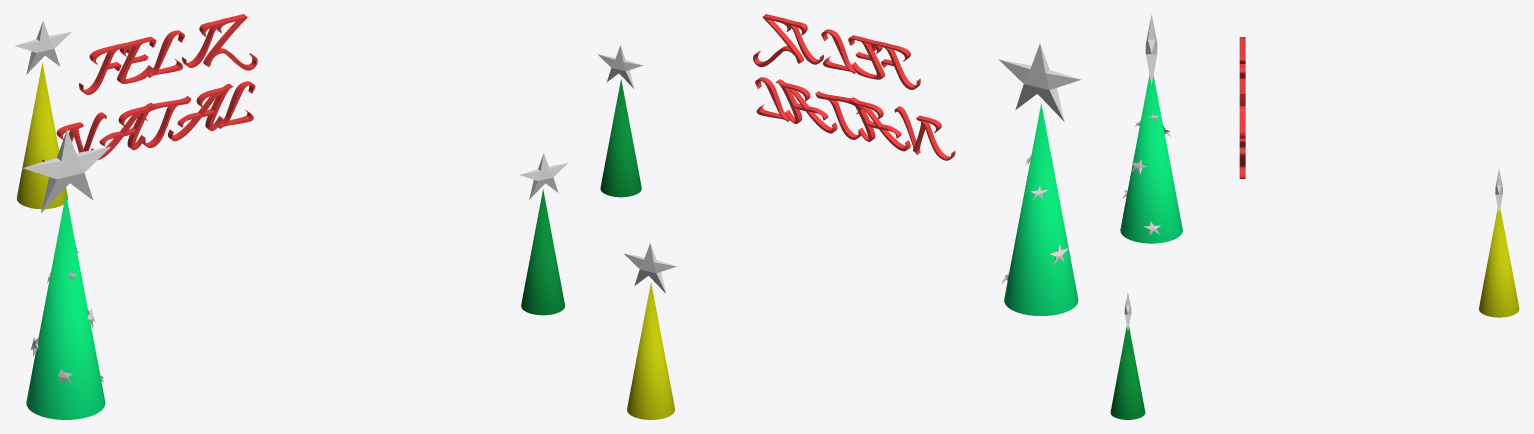
The model's file is uf-d021-natal.glb.
3 renders of one model, left to right at view 1: azimuth 30°, elevation 25°; view 2: azimuth 150°, elevation 25°; view 3: azimuth 270°, elevation 25°, orthographic. The views are drawn at different scales.
Parts seen in each view (by area): view 1: menataltree, Text.053, Text.052, menataltree.002, menataltree.001, menatalstar001, menatalstar001.002, menatalstar001.001; view 2: menataltree, Text.053, menataltree.002, Text.052, menataltree.001, menatalstar001, menatalstar001.002, menatalstar001.001; view 3: menataltree, menataltree.002, menataltree.001, Text.052, menatalstar001.
Boxes of the visible parts, bbox=[...] form: menataltree: bbox=[26, 194, 105, 419]; Text.053: bbox=[42, 81, 255, 161]; Text.052: bbox=[79, 14, 257, 94]; menataltree.002: bbox=[16, 62, 67, 209]; menataltree.001: bbox=[521, 189, 564, 315]; menatalstar001: bbox=[23, 129, 110, 212]; menatalstar001.002: bbox=[14, 21, 71, 74]; menatalstar001.001: bbox=[519, 153, 567, 199]; menataltree: bbox=[1004, 103, 1078, 315]; Text.053: bbox=[755, 77, 955, 160]; menataltree.002: bbox=[627, 282, 674, 419]; Text.052: bbox=[753, 14, 920, 89]; menataltree.001: bbox=[600, 79, 641, 197]; menatalstar001: bbox=[998, 43, 1081, 121]; menatalstar001.002: bbox=[623, 243, 676, 293]; menatalstar001.001: bbox=[598, 45, 643, 88]; menataltree: bbox=[1120, 75, 1182, 243]; menataltree.002: bbox=[1479, 208, 1519, 317]; menataltree.001: bbox=[1110, 326, 1145, 419]; Text.052: bbox=[1239, 37, 1245, 138]; menatalstar001: bbox=[1145, 15, 1157, 85].
Size of the model in its own units: 6.83 by 3.67 by 5.75.
